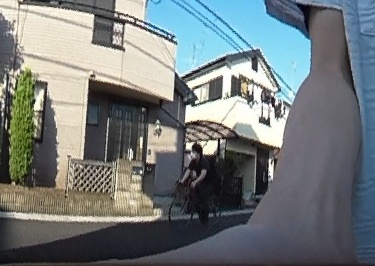person: (184, 142, 217, 222)
